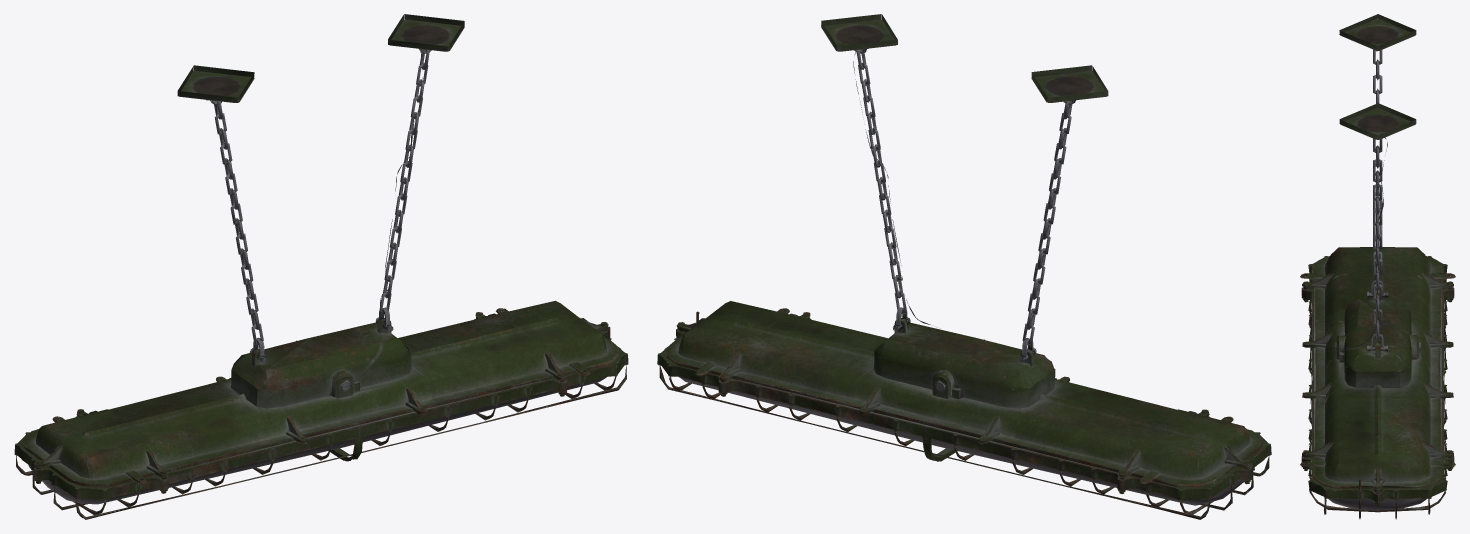
Rendered from caged_hanging_light.glb.
The picture shows the model from 3 angles, left to right: view 1: azimuth 30°, elevation 25°; view 2: azimuth 150°, elevation 25°; view 3: azimuth 270°, elevation 25°; orthographic projection. The views are drawn at different scales.
Parts seen in each view (by area): view 1: caged_hanging_light; view 2: caged_hanging_light; view 3: caged_hanging_light.
Boxes of the visible parts, x1,y1,x2,y2 form: caged_hanging_light: (14,14,628,519); caged_hanging_light: (657,14,1271,519); caged_hanging_light: (1300,14,1455,519).
Bounding box in the file's own units: 1.17 × 0.7501 × 0.3149.
1 material, 1 textured.
